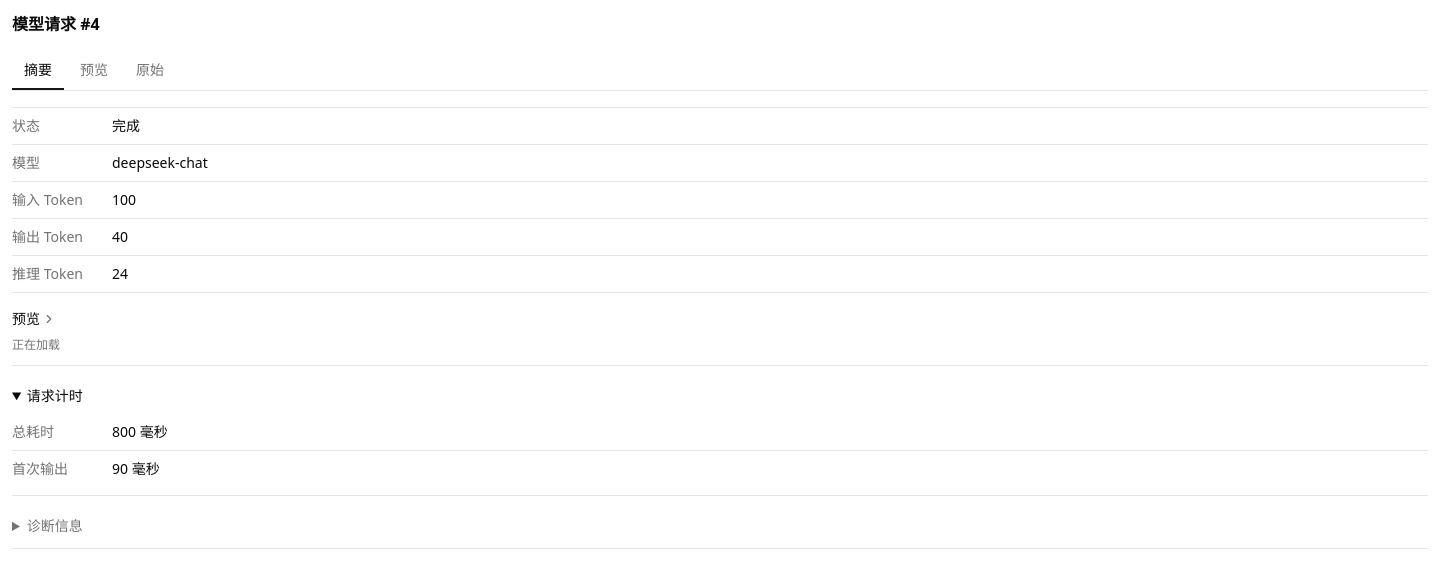
Test: TrajectoryNodeDetailPanel › 模型预览区分本轮保留与裁剪移除的工具消息
This screenshot has width=1440, height=566.
Click the tab "预览". click: (94, 71)
box: [68,52,120,90]
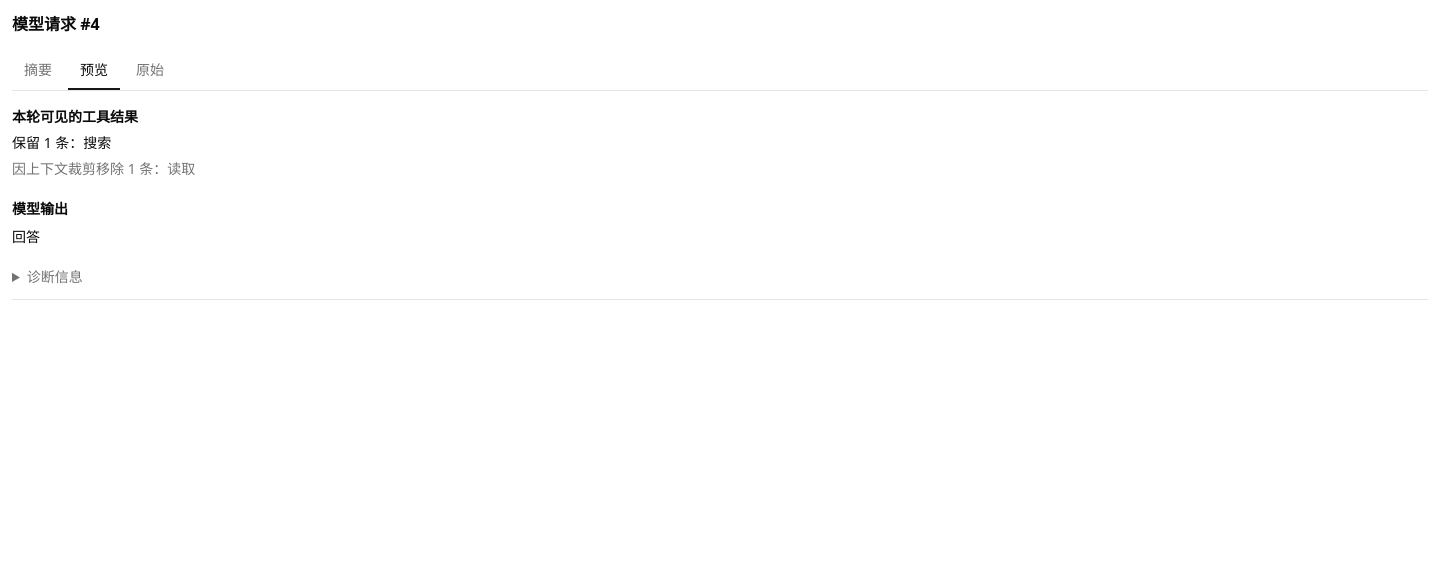
Expected: the heading "本轮可见的工具结果" is shown, [12,107,138,126]
Expected: the text "保留 1 条：搜索" is shown, [12,133,111,152]
Expected: the text "因上下文裁剪移除 1 条：读取" is shown, [12,159,195,178]
